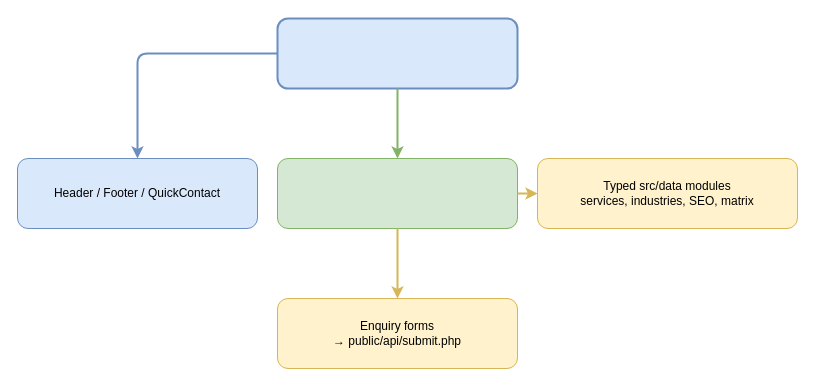
Some shapes in this 815 by 386 pixel diagram are drawn without their labels. The shapes that lost their labels are listed below. From the top down, each one's centre as x and y in pixels, then its label:
At pixel 397 53: "App.tsx route composition".
At pixel 397 193: "Page components services, quote, insights, legal".
